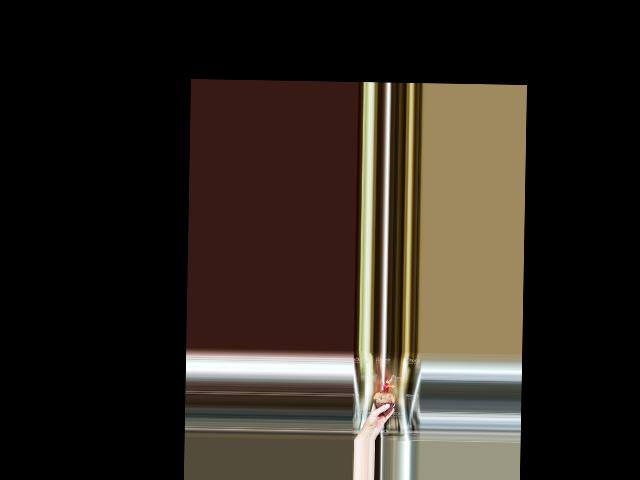beet: (373, 375, 396, 415)
